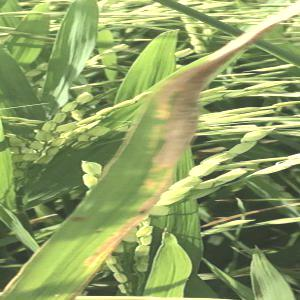2 BacterialBlight: (110, 72, 197, 187)
